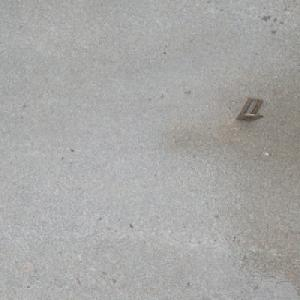MetalPart: (234, 97, 265, 122)
